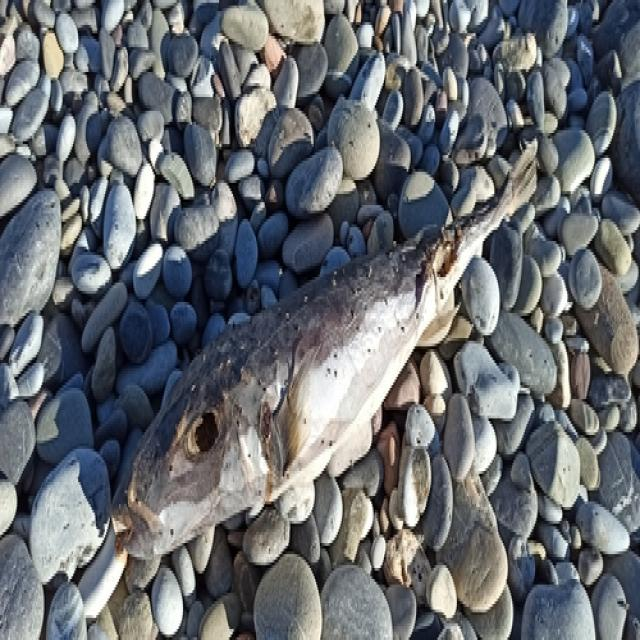Balik: (113, 145, 536, 556)
